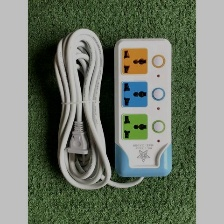three_eye_plug: (110, 33, 175, 181)
